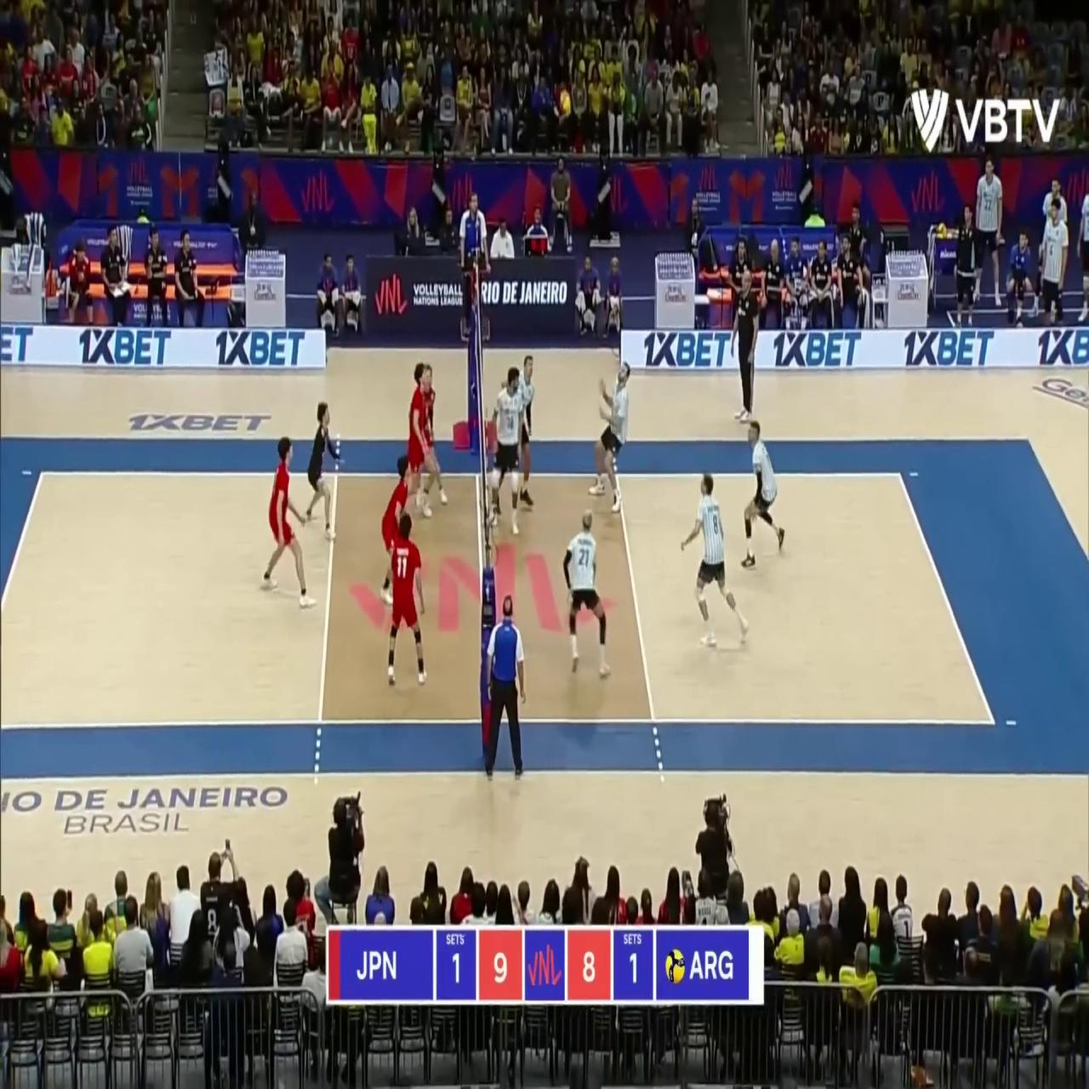ball: (560, 92, 570, 111)
